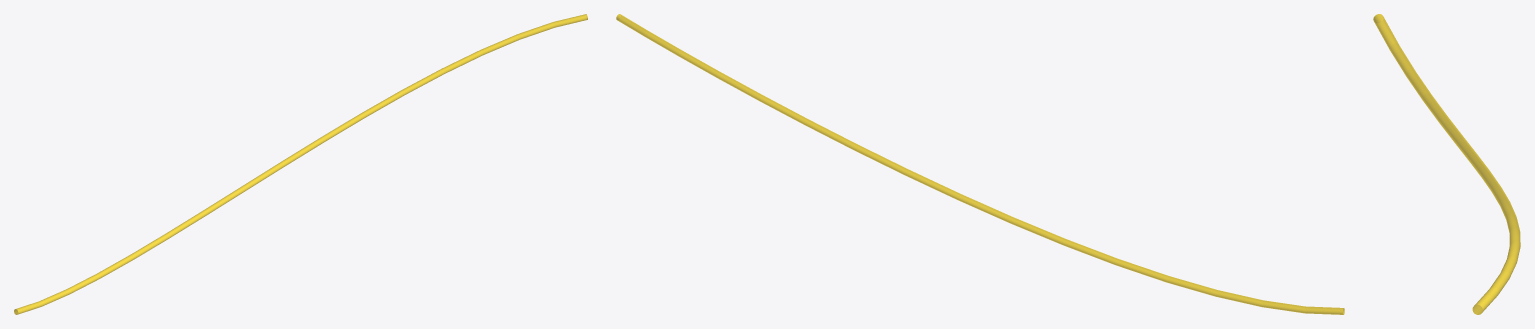
File: Event_84804159_track_67.fbx
3 renders of one model, left to right at view 1: azimuth 30°, elevation 25°; view 2: azimuth 150°, elevation 25°; view 3: azimuth 270°, elevation 25°, orthographic. The views are drawn at different scales.
Visible parts, largest first — view 1: Model; view 2: Model; view 3: Model.
Part boxes in pixels (x1,y1,x2,y2): Model: (14, 14, 587, 314); Model: (616, 14, 1344, 314); Model: (1373, 14, 1520, 314).
Size of the model in its own units: 4.57 by 0.9926 by 0.5454.
